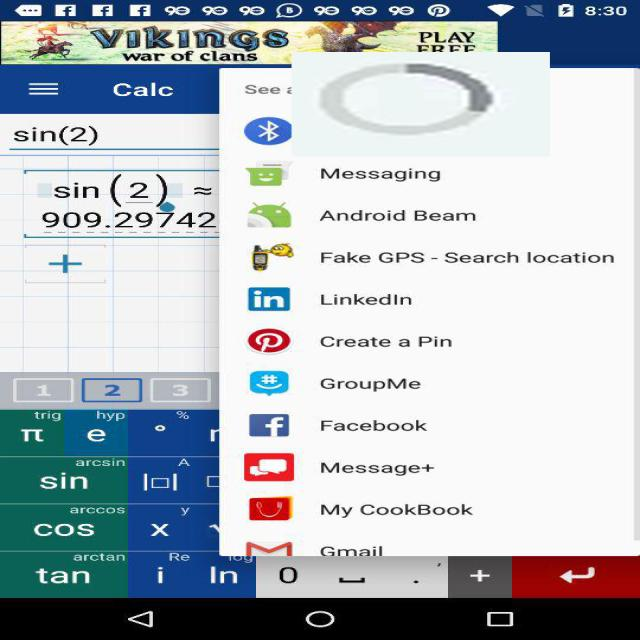misdirection: (291, 52, 550, 157)
